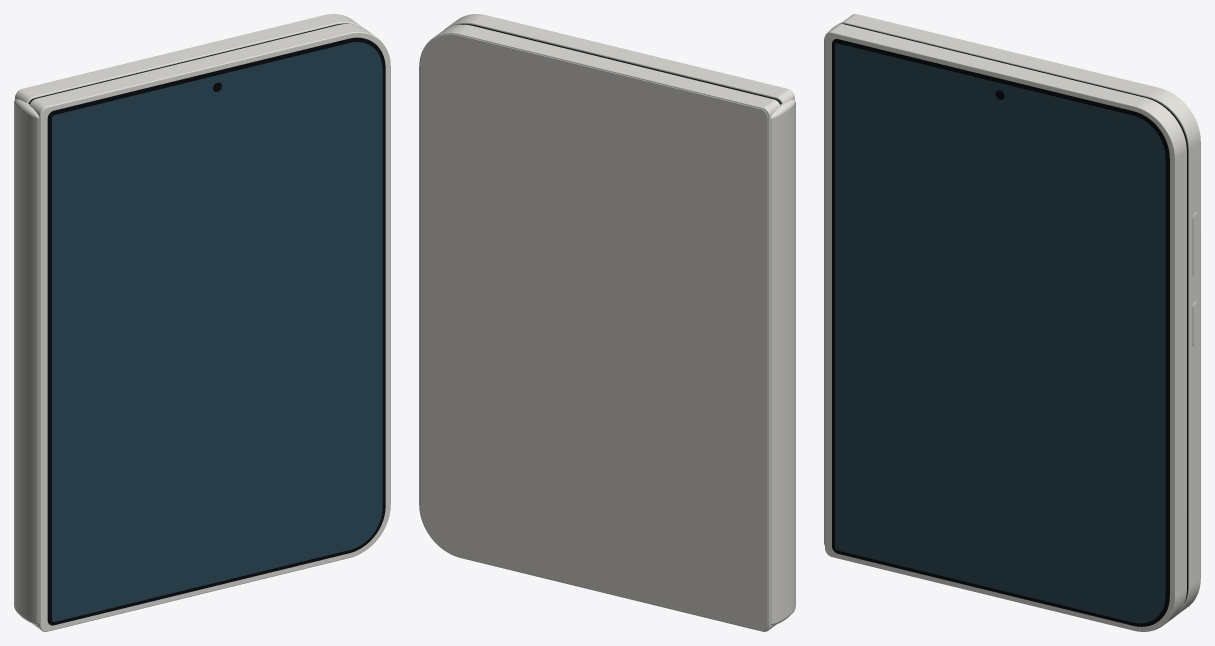
The model's file is folded.glb.
3 views of the same model, side by side, from view 1: azimuth 30°, elevation 25°; view 2: azimuth 150°, elevation 25°; view 3: azimuth 330°, elevation 25° (orthographic).
Parts seen in each view (by area): view 1: screen_outer_content, chassis_main, hinge_shell, screen_bezel, chassis_secondary; view 2: back_panel_main, hinge_shell, chassis_secondary, chassis_main, fold_seam_gasket; view 3: screen_outer_content, chassis_main, chassis_secondary, screen_bezel, fold_seam_gasket, side_buttons, hinge_shell.
Boxes of the visible parts, x1,y1,x2,y2 form: screen_outer_content: (52, 42, 382, 621); chassis_main: (29, 24, 390, 631); hinge_shell: (14, 99, 39, 624); screen_bezel: (47, 37, 385, 625); chassis_secondary: (15, 14, 361, 103); back_panel_main: (420, 34, 768, 630); hinge_shell: (770, 99, 795, 624); chassis_secondary: (419, 24, 780, 631); chassis_main: (444, 14, 794, 612); fold_seam_gasket: (457, 24, 781, 104); screen_outer_content: (835, 43, 1165, 623); chassis_main: (825, 24, 1186, 631); chassis_secondary: (840, 14, 1200, 614); screen_bezel: (832, 39, 1169, 626); fold_seam_gasket: (843, 23, 1188, 602); side_buttons: (1192, 212, 1198, 346); hinge_shell: (824, 22, 841, 545).
Size of the model in its own units: 0.0838 by 0.1179 by 0.0109.
